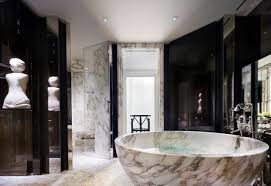bathub: (115, 123, 271, 185)
